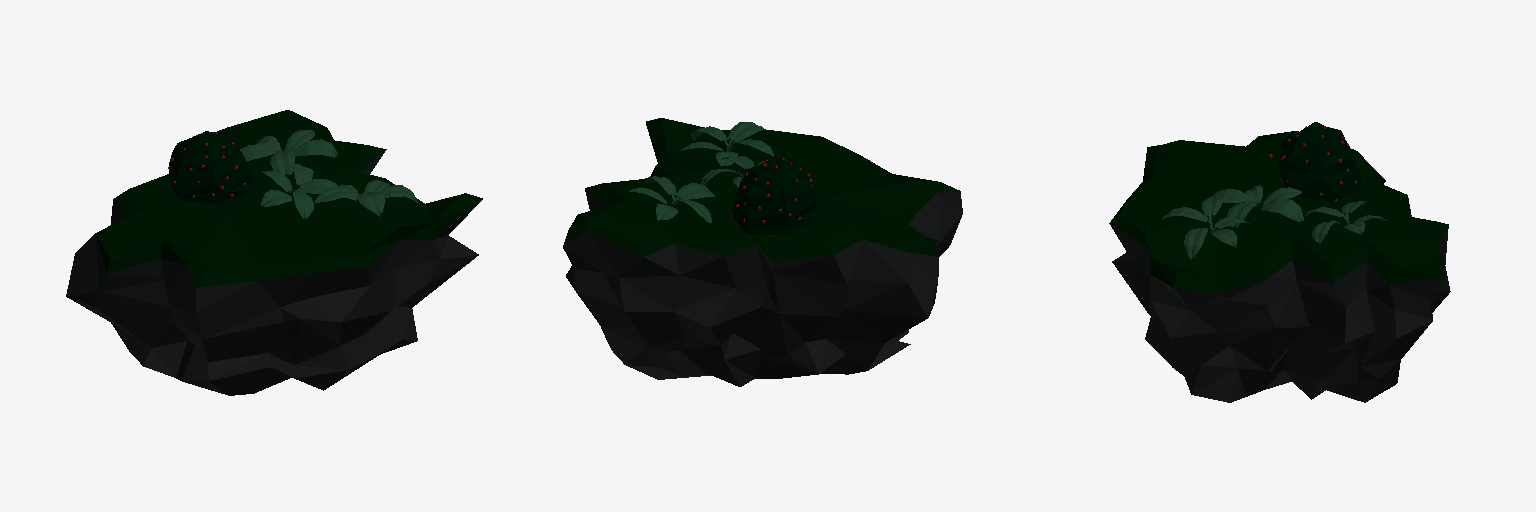
Rendered from bunnyIsland.obj.
3 views of the same model, side by side, from view 1: azimuth 30°, elevation 25°; view 2: azimuth 150°, elevation 25°; view 3: azimuth 270°, elevation 25° (orthographic).
Visible parts, largest first — view 1: Plane_Plane.001, Sphere.106_Sphere.107, leaf.012_Plane.015; view 2: Plane_Plane.001, Sphere.106_Sphere.107; view 3: Plane_Plane.001, Sphere.106_Sphere.107, leaf.002_Plane.005.
Part boxes in pixels (bbox=[...]): Plane_Plane.001: bbox=[66, 110, 482, 395]; Sphere.106_Sphere.107: bbox=[169, 131, 254, 204]; leaf.012_Plane.015: bbox=[293, 139, 337, 157]; Plane_Plane.001: bbox=[563, 118, 962, 386]; Sphere.106_Sphere.107: bbox=[732, 157, 815, 234]; Plane_Plane.001: bbox=[1109, 131, 1450, 402]; Sphere.106_Sphere.107: bbox=[1279, 122, 1360, 201]; leaf.002_Plane.005: bbox=[1260, 198, 1303, 221].
Size of the model in its own units: 2.03 by 1.29 by 1.72.